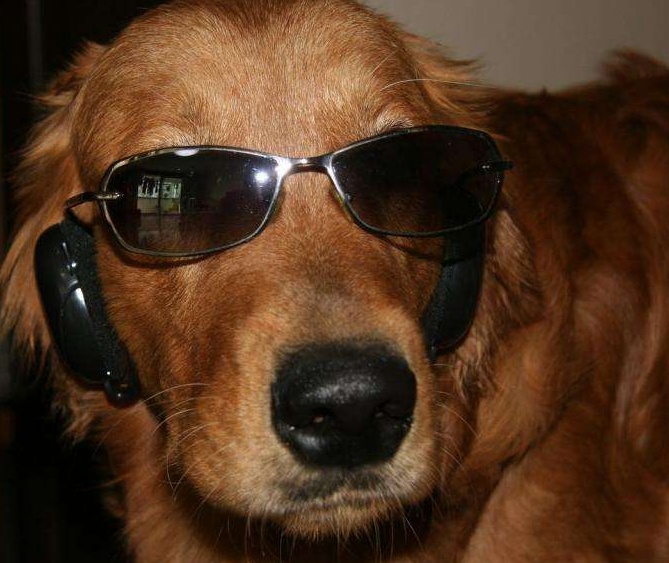nose: (272, 340, 421, 471)
